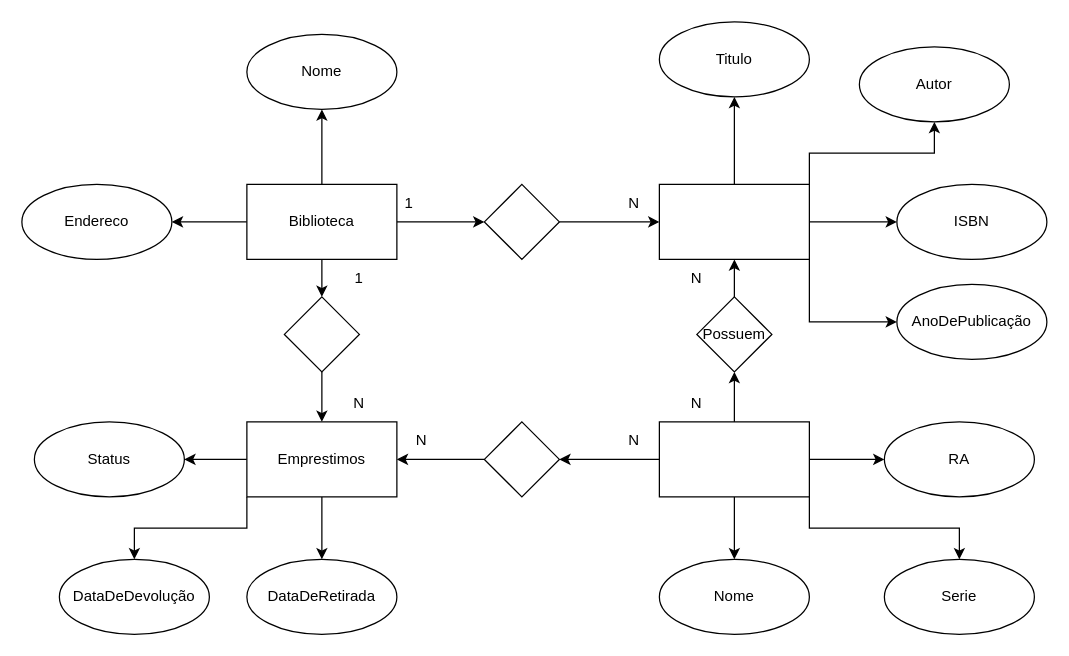
The diagram is 1069 pixels wide and 656 high, and some of its shapes have lost their labels. Here are the shapes that lost their labels. From the top down, the centre of each, then its label:
At (521,221): "Contém".
At (733,221): "Livros".
At (321,334): "Possui".
At (521,459): "Tem".
At (733,459): "Aluno".
